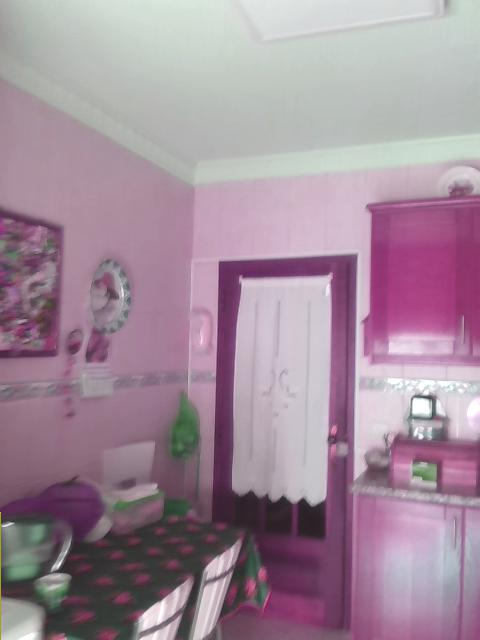closed_door: (210, 254, 358, 635)
